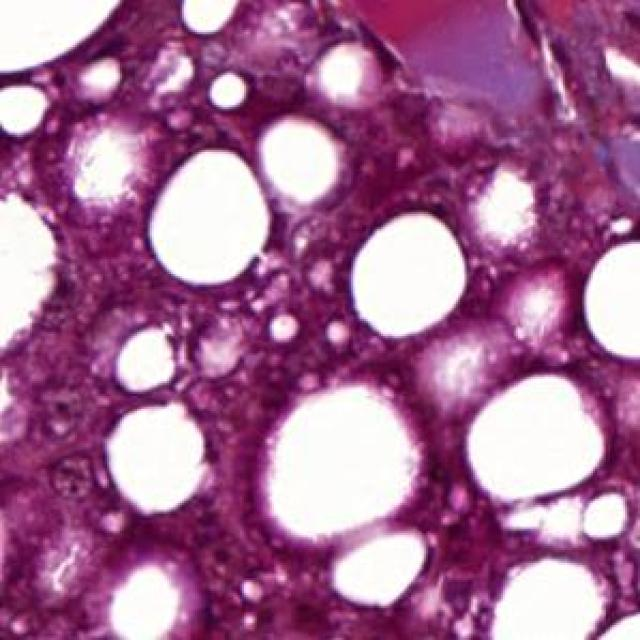steatosis: (351, 208, 469, 340), (2, 0, 124, 71), (584, 240, 640, 357), (210, 71, 248, 109)
